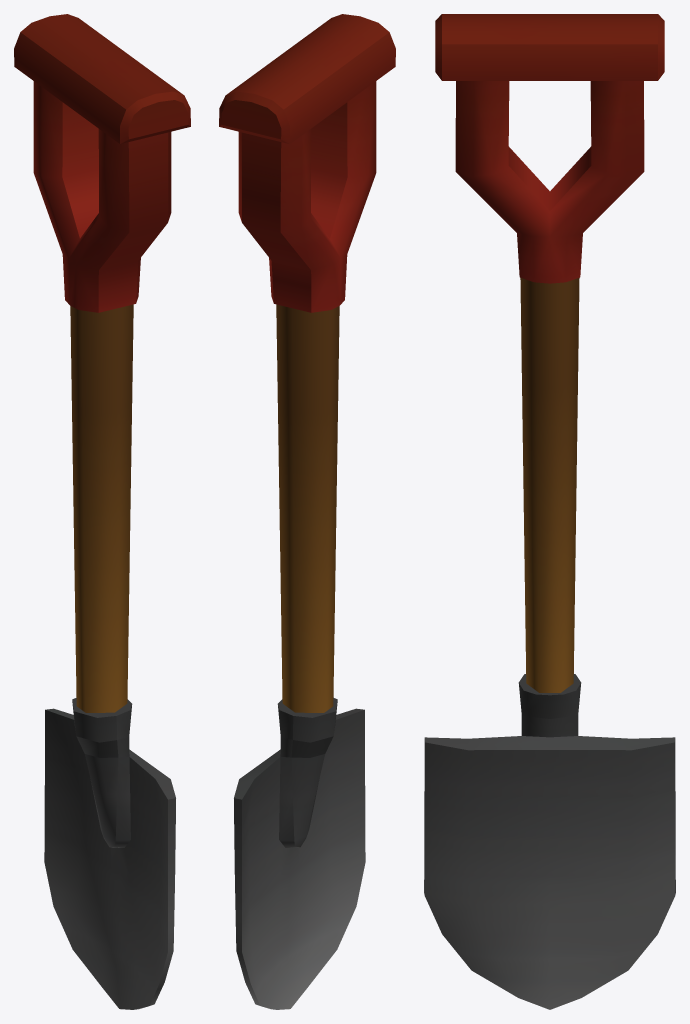
Rendered from Shovel_1.glb.
3 views of the same model, side by side, from view 1: azimuth 30°, elevation 25°; view 2: azimuth 150°, elevation 25°; view 3: azimuth 270°, elevation 25° (orthographic).
Visible parts, largest first — view 1: Shovel_1; view 2: Shovel_1; view 3: Shovel_1.
Boxes of the visible parts, left/top/right/bottom form: Shovel_1: left=14, top=14, right=190, bottom=1009; Shovel_1: left=219, top=14, right=395, bottom=1009; Shovel_1: left=424, top=14, right=675, bottom=1009.
Bounding box in the file's own units: 0.0542 × 0.7009 × 0.1635.
2 materials, 2 textured.
